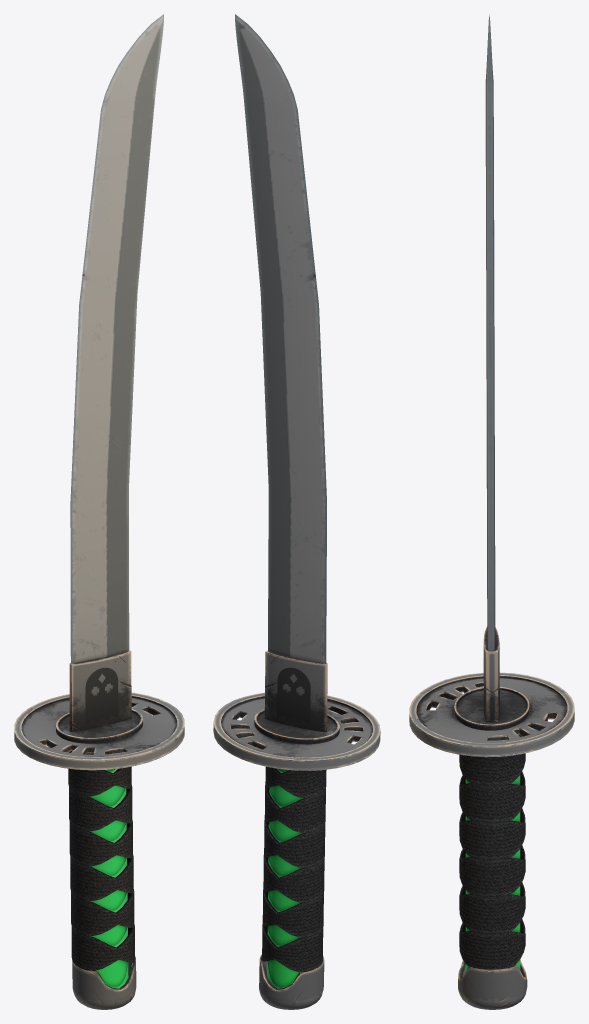
File: KatanaLow.fbx
The picture shows the model from 3 angles, left to right: view 1: azimuth 30°, elevation 25°; view 2: azimuth 150°, elevation 25°; view 3: azimuth 270°, elevation 25°; orthographic projection. The views are drawn at different scales.
Parts seen in each view (by area): view 1: Katana_; view 2: Katana_; view 3: Katana_.
Part boxes in pixels (x1,y1,x2,y2): Katana_: [14, 14, 184, 1009]; Katana_: [213, 14, 380, 1009]; Katana_: [409, 14, 574, 1009].
Size of the model in its own units: 3.12 by 19.46 by 2.86.
